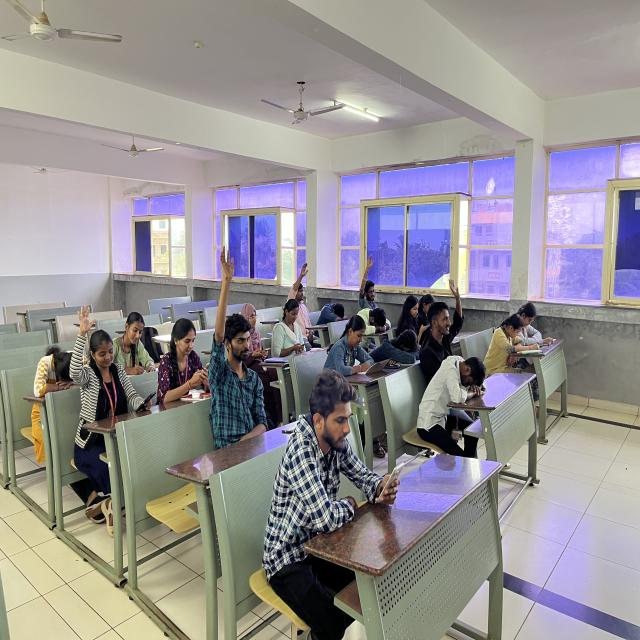Hand Rising: (206, 240, 265, 456), (71, 299, 125, 422), (419, 275, 472, 356), (282, 254, 318, 338), (351, 249, 392, 310)
Reading: (112, 303, 164, 382), (507, 288, 567, 343), (482, 318, 542, 370)
Sleeping: (20, 324, 82, 418), (423, 345, 489, 417), (365, 322, 419, 363), (350, 298, 394, 333), (312, 286, 349, 326)
Using Phone: (267, 368, 408, 531), (159, 311, 212, 409), (236, 289, 274, 367), (267, 292, 311, 359)
Writing: (326, 310, 384, 382), (401, 292, 433, 338)
